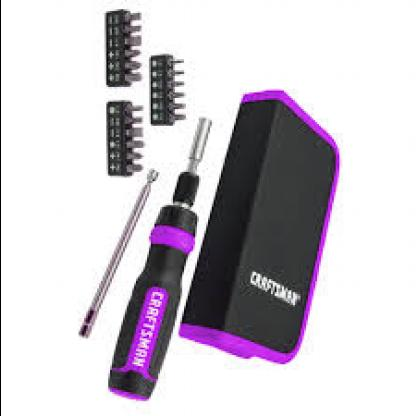Pliers: (102, 109, 218, 407)
